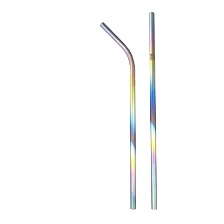drinking_straw: (95, 18, 140, 212), (141, 6, 162, 213)
